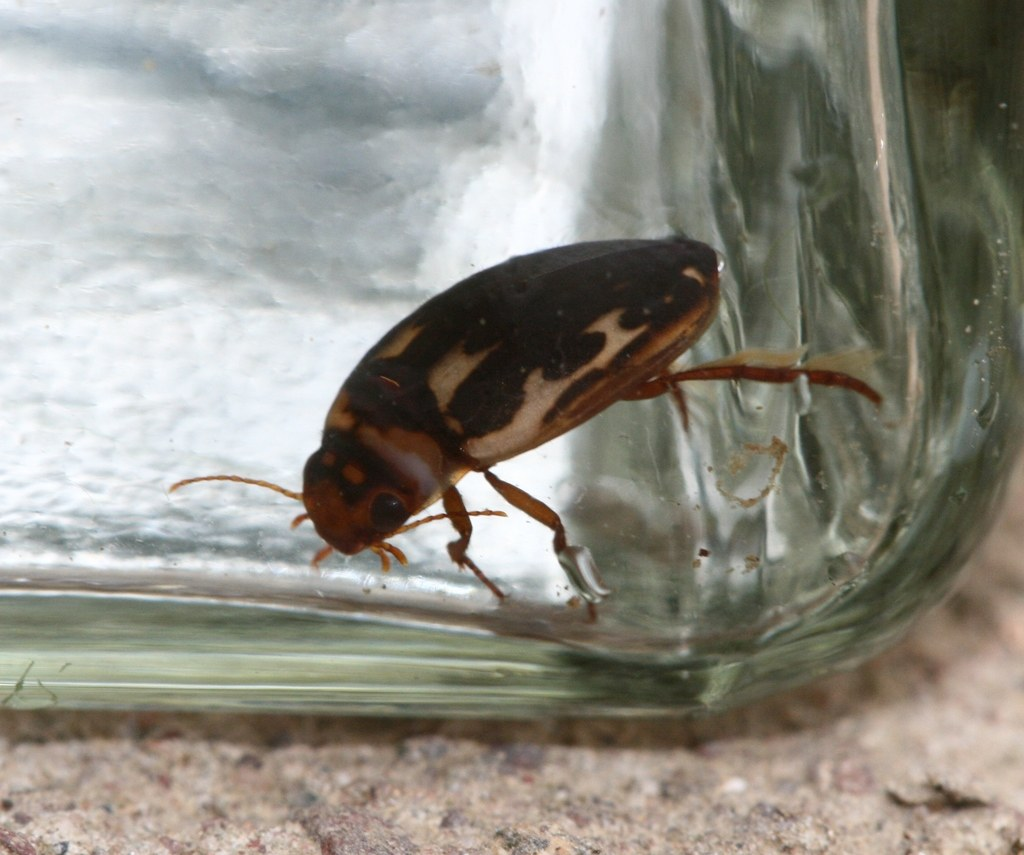insect: (166, 235, 888, 605)
